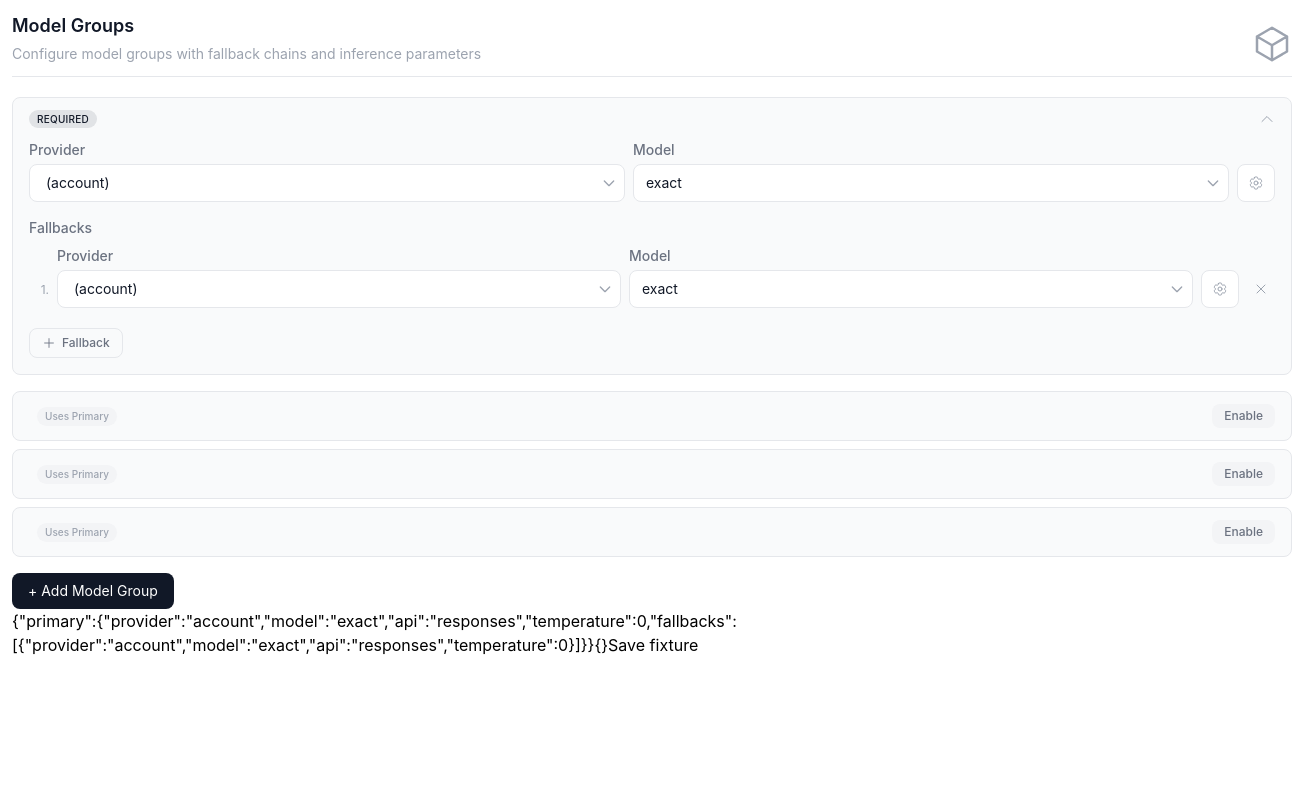
it: selects DeepSeek's protocol after changing a provider (fallback: true)
The width and height of the screenshot is (1304, 812).
Press ArrowDown in the 2nd dropdown labelled "Provider", box [57,270,621,308]
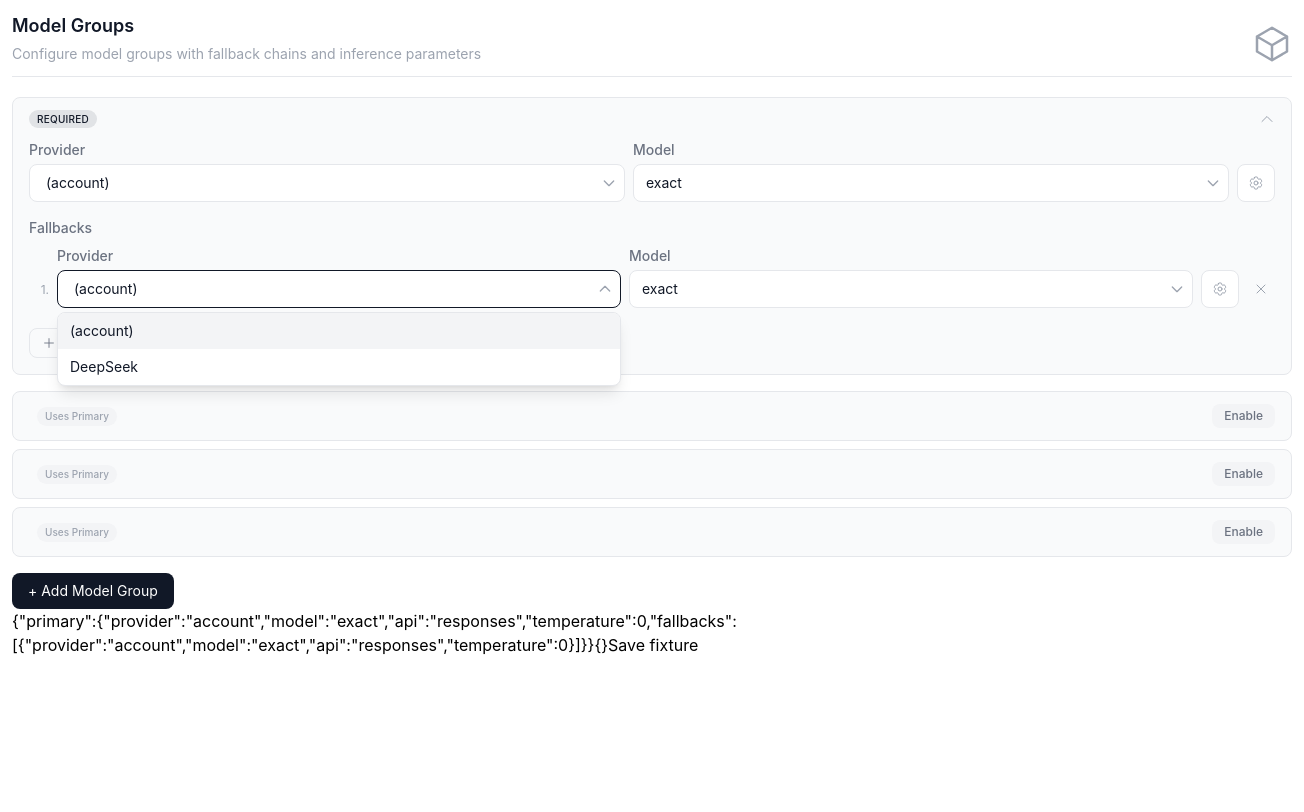
Click the option "DeepSeek": coordinates (104, 367) [70,358,138,375]
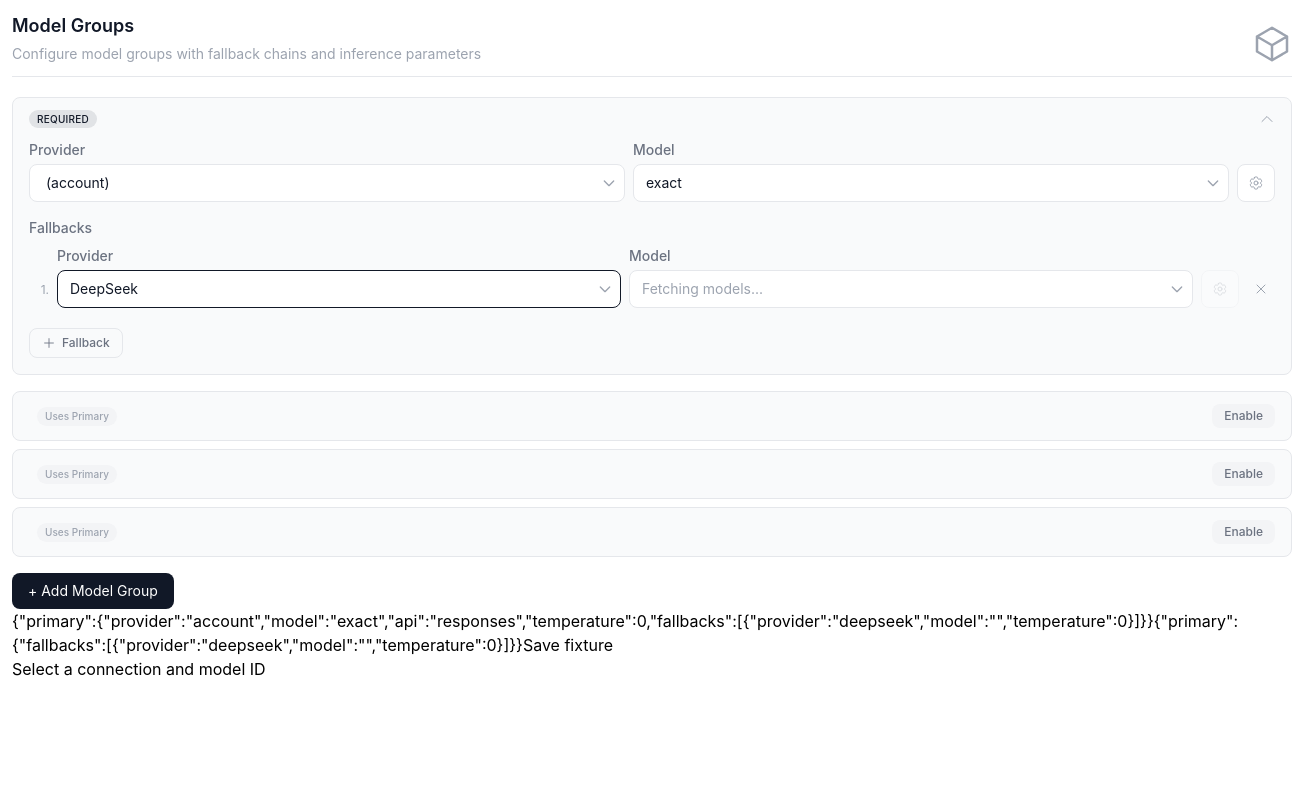
Press ArrowDown in the 2nd dropdown labelled "Model", box [629,270,1193,308]
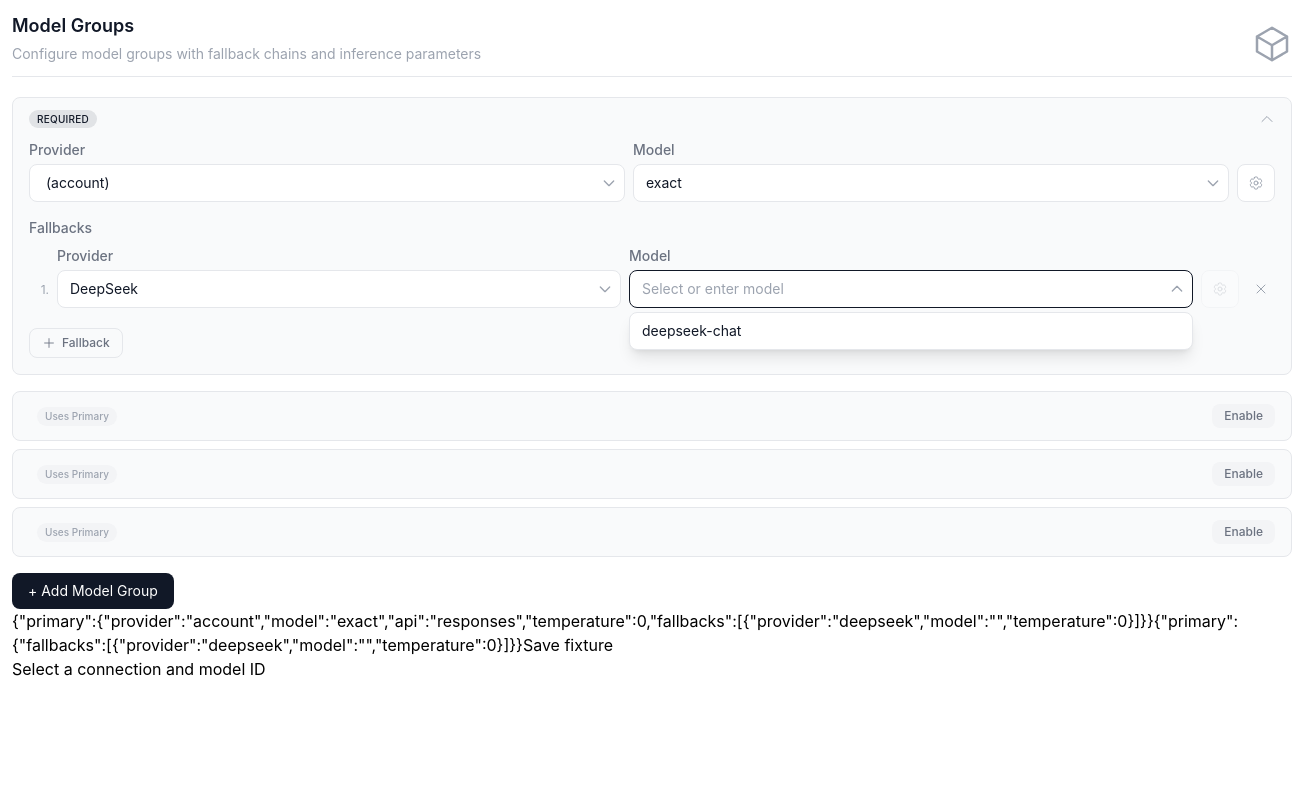
Click the option "deepseek-chat": coordinates (692, 331) [642,322,741,339]
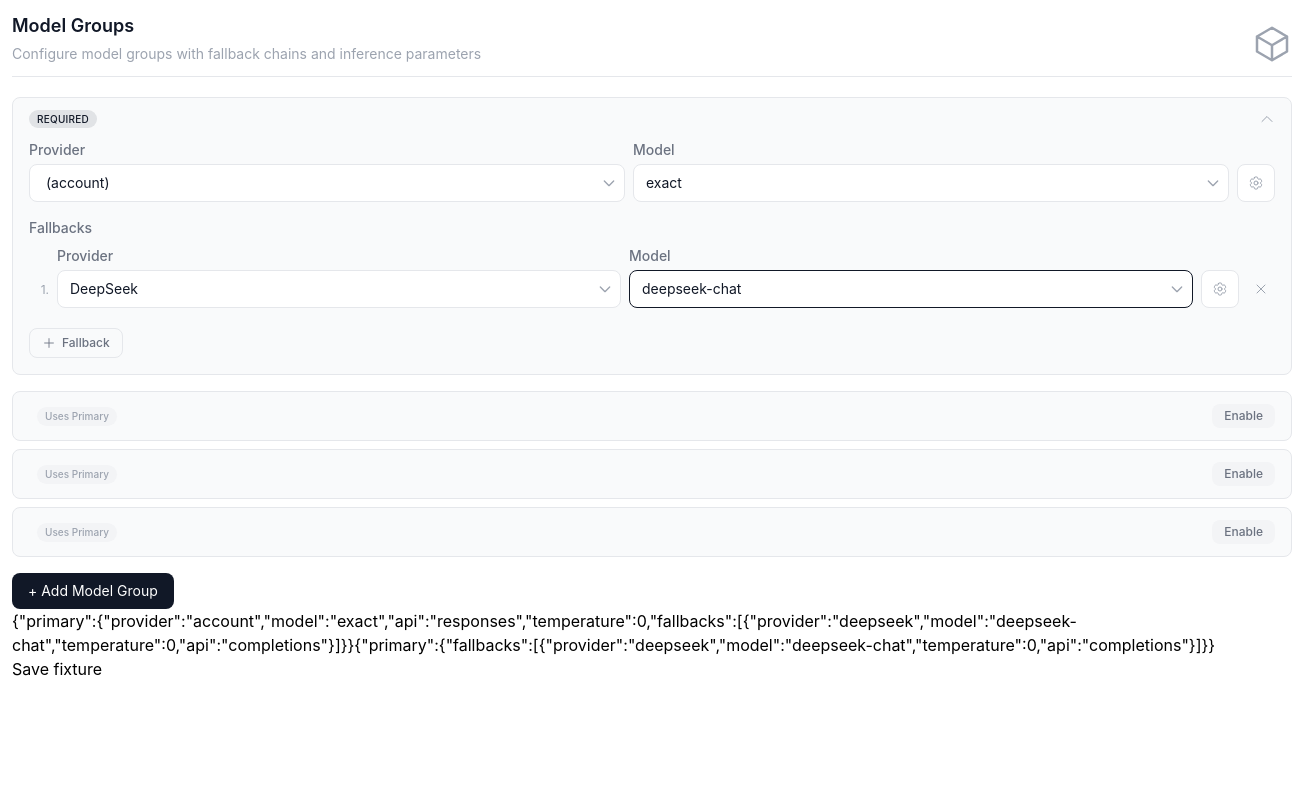
Now the button "Save fixture" is enabled, box [12,657,102,681]
